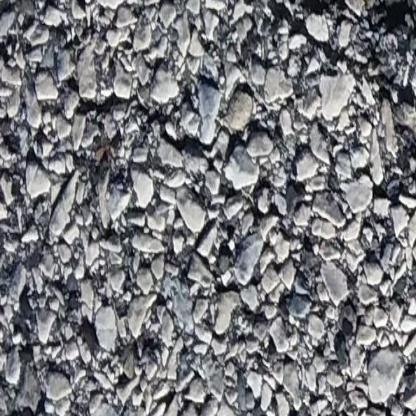Cracks: (230, 0, 416, 204), (369, 0, 416, 65)
